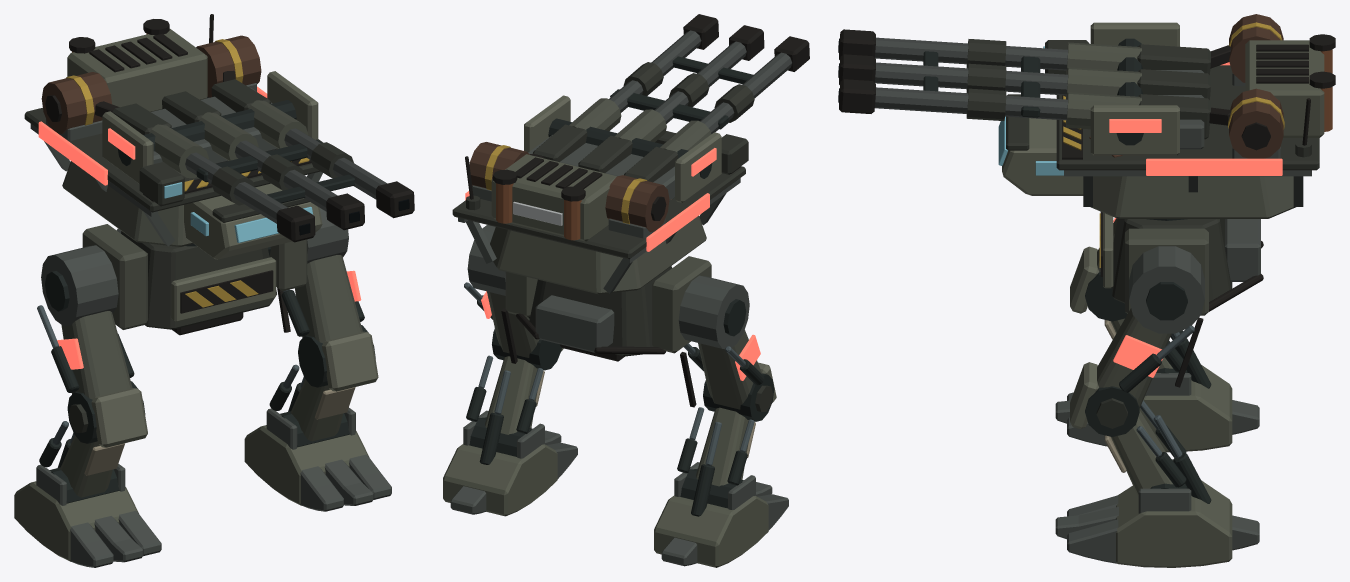
Rendered from m_juggernaut.glb.
3 renders of one model, left to right at view 1: azimuth 30°, elevation 25°; view 2: azimuth 150°, elevation 25°; view 3: azimuth 270°, elevation 25°, orthographic. The views are drawn at different scales.
Parts seen in each view (by area): view 1: Gun deck, Leg armor, Leg armor.001, Triple battery, Pelvis; view 2: Gun deck, Leg armor, Leg armor.001, Triple battery, Pelvis; view 3: Gun deck, Leg armor.001, Triple battery, Leg armor, Pelvis.
Boxes of the visible parts, box(x1,y1,x2,y2) form: Gun deck: box(24, 14, 323, 259); Leg armor: box(14, 245, 161, 567); Leg armor.001: box(244, 208, 391, 511); Triple battery: box(112, 79, 414, 242); Pelvis: box(82, 224, 307, 335); Gun deck: box(452, 95, 748, 294); Leg armor: box(654, 275, 788, 567); Leg armor.001: box(443, 225, 577, 516); Triple battery: box(533, 14, 809, 182); Pelvis: box(505, 256, 711, 361); Gun deck: box(998, 14, 1335, 218); Leg armor.001: box(1055, 246, 1259, 567); Triple battery: box(838, 29, 1210, 139); Leg armor: box(1055, 218, 1259, 452); Pelvis: box(1099, 212, 1263, 315).
Size of the model in its own units: 3.4 by 4.6 by 4.73.
